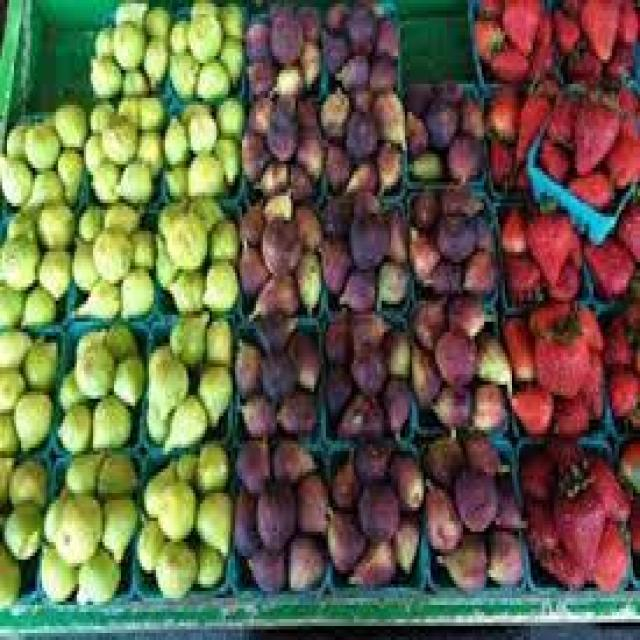organic waste: (554, 462, 603, 566), (531, 301, 584, 395), (568, 91, 617, 171), (46, 493, 102, 563), (524, 210, 570, 287), (530, 294, 600, 343), (254, 472, 298, 549), (582, 448, 626, 518), (584, 518, 628, 588), (156, 392, 207, 451), (70, 325, 114, 392), (452, 462, 496, 528), (321, 500, 361, 570), (72, 546, 119, 605), (146, 343, 188, 409), (433, 532, 482, 588), (193, 483, 230, 556), (12, 384, 54, 448), (95, 493, 135, 560), (582, 238, 633, 290), (151, 472, 193, 535), (151, 535, 193, 595), (512, 88, 545, 164), (575, 0, 619, 56), (436, 325, 480, 381), (332, 388, 382, 437), (284, 525, 321, 591), (244, 269, 296, 315), (424, 479, 458, 549), (37, 539, 77, 598), (168, 307, 210, 363), (88, 392, 130, 448), (0, 500, 42, 556), (293, 465, 328, 532), (347, 210, 386, 269), (5, 455, 44, 514), (193, 364, 230, 426), (405, 339, 437, 409), (358, 479, 398, 535), (0, 231, 40, 287), (424, 430, 463, 486), (430, 210, 474, 259), (602, 126, 638, 185), (230, 437, 270, 490), (370, 84, 403, 147), (500, 311, 531, 378), (475, 328, 512, 384), (347, 336, 384, 392), (168, 210, 205, 266), (91, 224, 128, 280), (98, 105, 137, 157), (538, 542, 582, 588), (349, 535, 393, 581), (389, 444, 421, 507), (316, 185, 354, 238), (258, 213, 296, 266), (258, 346, 296, 399), (228, 332, 258, 399), (200, 259, 238, 311), (237, 388, 277, 437), (114, 266, 154, 315), (561, 168, 612, 206), (509, 385, 552, 430), (242, 542, 284, 588), (230, 479, 256, 553), (405, 220, 437, 280), (435, 178, 484, 217), (54, 398, 88, 454), (426, 378, 468, 423), (389, 511, 419, 574), (500, 0, 538, 49), (142, 458, 177, 511), (186, 143, 221, 196), (272, 434, 316, 476), (135, 514, 168, 570), (486, 77, 517, 136), (21, 332, 53, 388), (110, 350, 144, 402), (491, 472, 524, 525), (486, 525, 519, 577), (412, 297, 447, 346), (205, 210, 240, 259), (67, 280, 116, 315), (35, 245, 70, 294), (458, 245, 496, 290), (503, 248, 540, 294), (347, 304, 384, 350), (114, 150, 151, 196), (24, 164, 61, 210), (442, 130, 477, 178), (270, 7, 300, 63), (37, 196, 74, 241), (338, 262, 374, 308), (193, 440, 226, 490), (607, 360, 638, 413), (265, 101, 296, 154), (237, 235, 263, 298), (275, 388, 314, 430), (470, 378, 503, 427), (237, 126, 268, 178), (444, 290, 482, 332), (377, 374, 407, 427), (421, 98, 456, 143), (296, 245, 321, 308), (354, 437, 388, 483), (165, 266, 202, 308), (188, 10, 219, 60), (253, 314, 296, 350), (168, 46, 200, 94), (112, 18, 144, 66), (419, 255, 458, 294), (95, 455, 135, 493), (314, 231, 345, 280), (137, 35, 168, 84), (372, 255, 405, 301), (524, 496, 554, 546), (70, 234, 95, 294), (328, 444, 356, 497), (135, 122, 163, 175), (149, 231, 174, 290), (598, 311, 628, 360), (463, 434, 498, 476), (342, 105, 372, 154), (193, 52, 228, 94), (51, 98, 86, 140), (0, 154, 30, 203), (319, 84, 347, 136), (16, 280, 54, 318), (181, 108, 212, 154), (54, 143, 79, 200), (330, 45, 366, 84), (319, 353, 344, 409), (580, 346, 598, 423), (547, 3, 575, 52), (522, 444, 550, 493), (370, 3, 398, 52), (321, 137, 349, 186), (128, 224, 156, 273), (60, 455, 96, 493), (549, 392, 589, 426), (102, 200, 142, 234), (382, 203, 405, 262), (291, 329, 314, 388), (470, 14, 500, 59), (489, 46, 528, 80), (244, 91, 275, 133), (193, 546, 224, 588), (459, 84, 484, 136), (484, 126, 507, 182), (498, 203, 524, 252), (372, 136, 396, 189), (549, 252, 577, 297), (135, 88, 165, 130), (23, 119, 56, 157), (612, 200, 638, 248), (203, 311, 228, 360), (156, 196, 188, 234), (217, 35, 244, 80), (614, 437, 638, 486), (405, 105, 426, 161), (293, 0, 321, 42), (214, 91, 242, 133), (538, 136, 570, 172), (293, 200, 317, 248), (0, 325, 30, 363), (384, 325, 407, 374), (402, 80, 433, 116), (237, 199, 261, 245), (319, 311, 347, 350), (293, 38, 319, 80), (91, 52, 121, 88), (410, 182, 435, 224), (568, 45, 600, 77), (186, 196, 219, 227), (105, 322, 135, 356), (244, 17, 270, 56), (212, 130, 233, 178), (0, 549, 19, 602), (344, 157, 375, 189), (321, 35, 347, 73), (407, 144, 442, 172), (368, 49, 396, 84), (75, 199, 100, 238), (547, 94, 568, 140), (347, 0, 370, 42), (298, 126, 321, 168), (163, 112, 186, 154), (0, 363, 23, 405), (142, 0, 167, 38), (91, 161, 116, 199), (146, 398, 168, 441), (616, 0, 638, 42), (605, 84, 638, 112), (256, 161, 289, 189), (295, 91, 319, 129), (286, 154, 310, 192), (602, 45, 630, 77), (547, 434, 579, 462), (0, 276, 21, 318), (5, 119, 28, 157), (619, 301, 638, 346), (56, 364, 81, 398), (5, 210, 35, 238), (245, 56, 272, 87), (81, 126, 98, 175), (272, 63, 300, 91), (349, 186, 377, 213), (430, 77, 461, 101), (624, 493, 638, 546), (168, 10, 188, 46), (323, 0, 346, 31), (42, 493, 60, 532), (114, 0, 147, 21), (165, 161, 189, 189), (0, 409, 16, 451), (95, 21, 114, 56), (220, 0, 237, 38), (121, 63, 147, 87), (90, 98, 112, 126), (119, 91, 137, 122), (474, 210, 488, 248), (179, 94, 203, 116), (175, 451, 193, 479), (510, 161, 526, 189), (474, 0, 498, 17), (188, 0, 216, 14), (568, 224, 579, 255)
